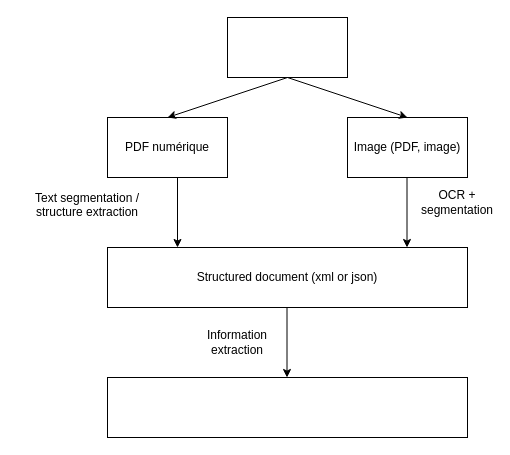
Image size: 510x455. Some labels were removed from this diagram. The centre of each missing label's shape, as x and y in pixels:
Initial Raw Document: pixel 287 47
Structured doc with specific extracted information (xml or json): pixel 287 407
